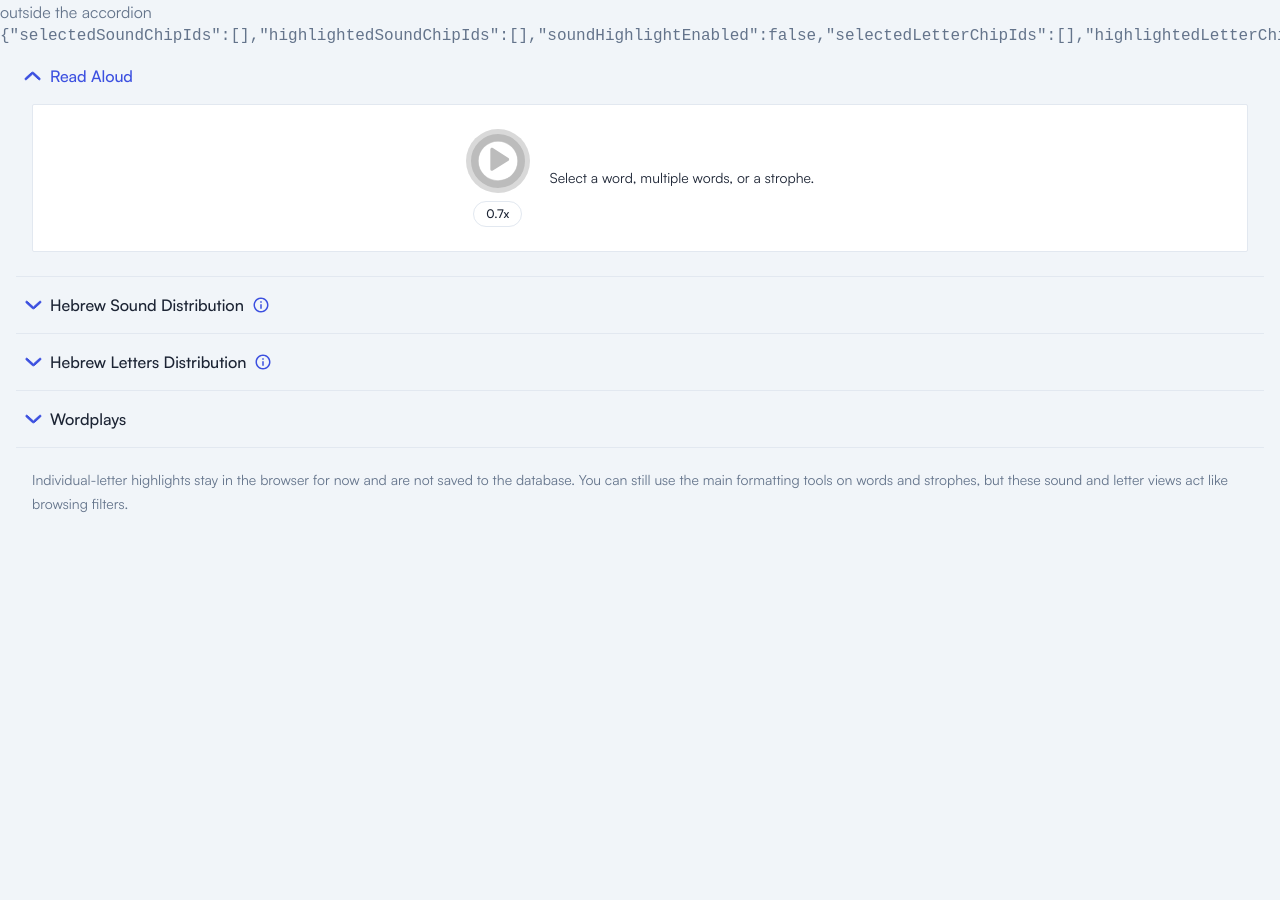
it: tooltip modal — open / content / close › Hebrew Sound Distribution uses the shared blue info icon without toggling the section (127.5)
Click the button named "About sound distribution" at [261, 305], box [252,296,270,314]
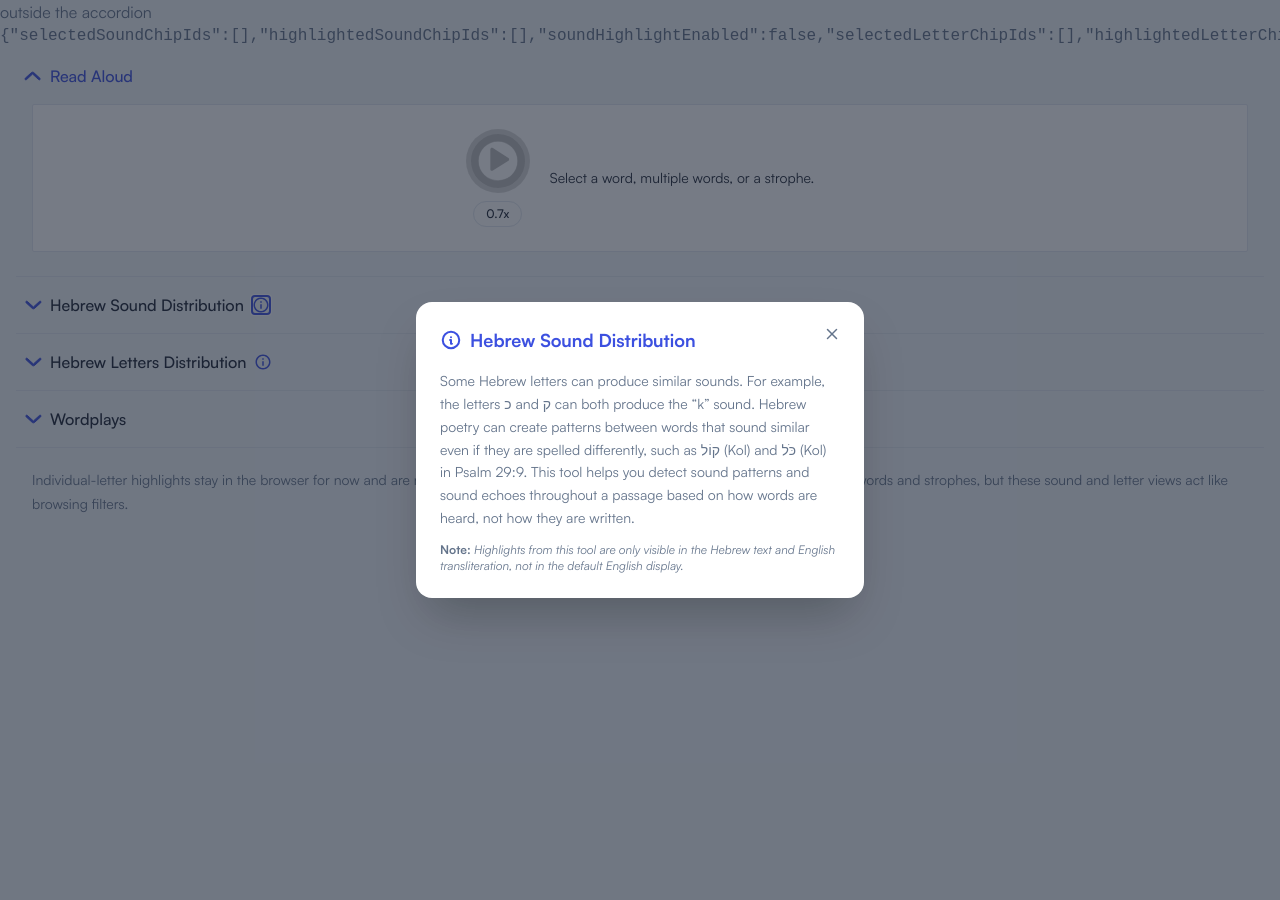
Result: the dialog is shown
Click the button named "Close" at [832, 334], box [816,318,848,350]
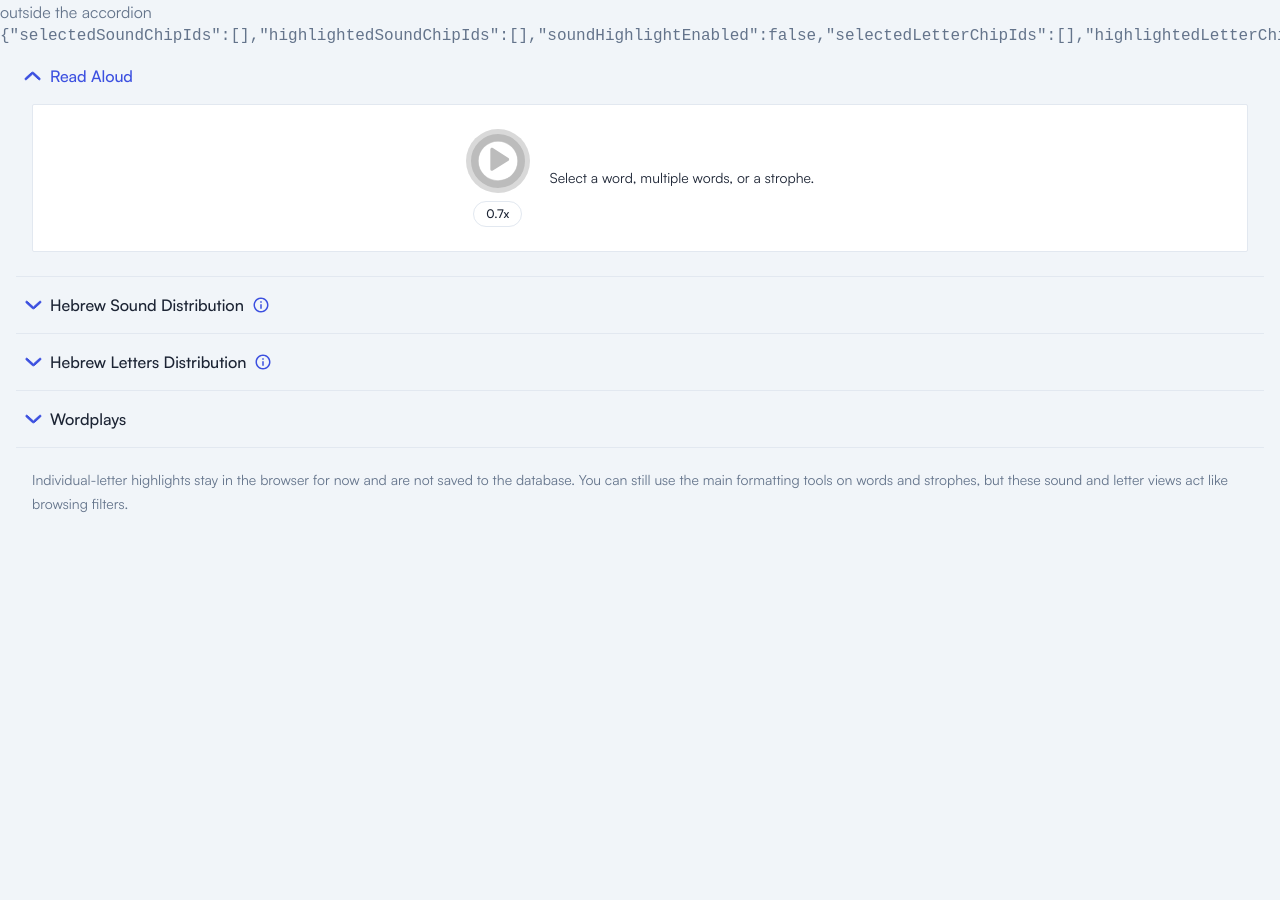
Click the button "Hebrew Sound Distribution" at [134, 305], box [24,293,244,317]
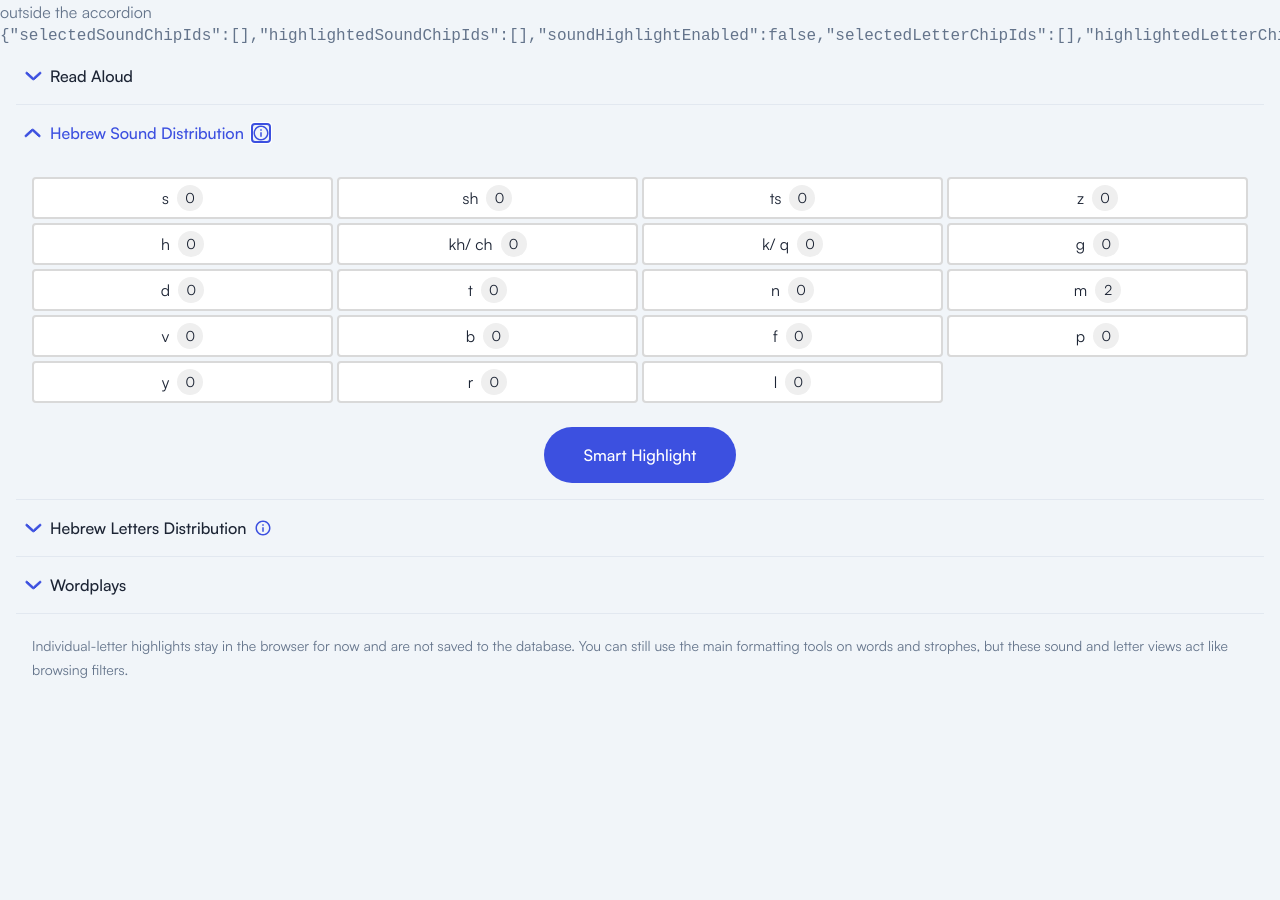
Result: the button "Hebrew Sound Distribution" is expanded at [24,121,244,145]
Press Enter
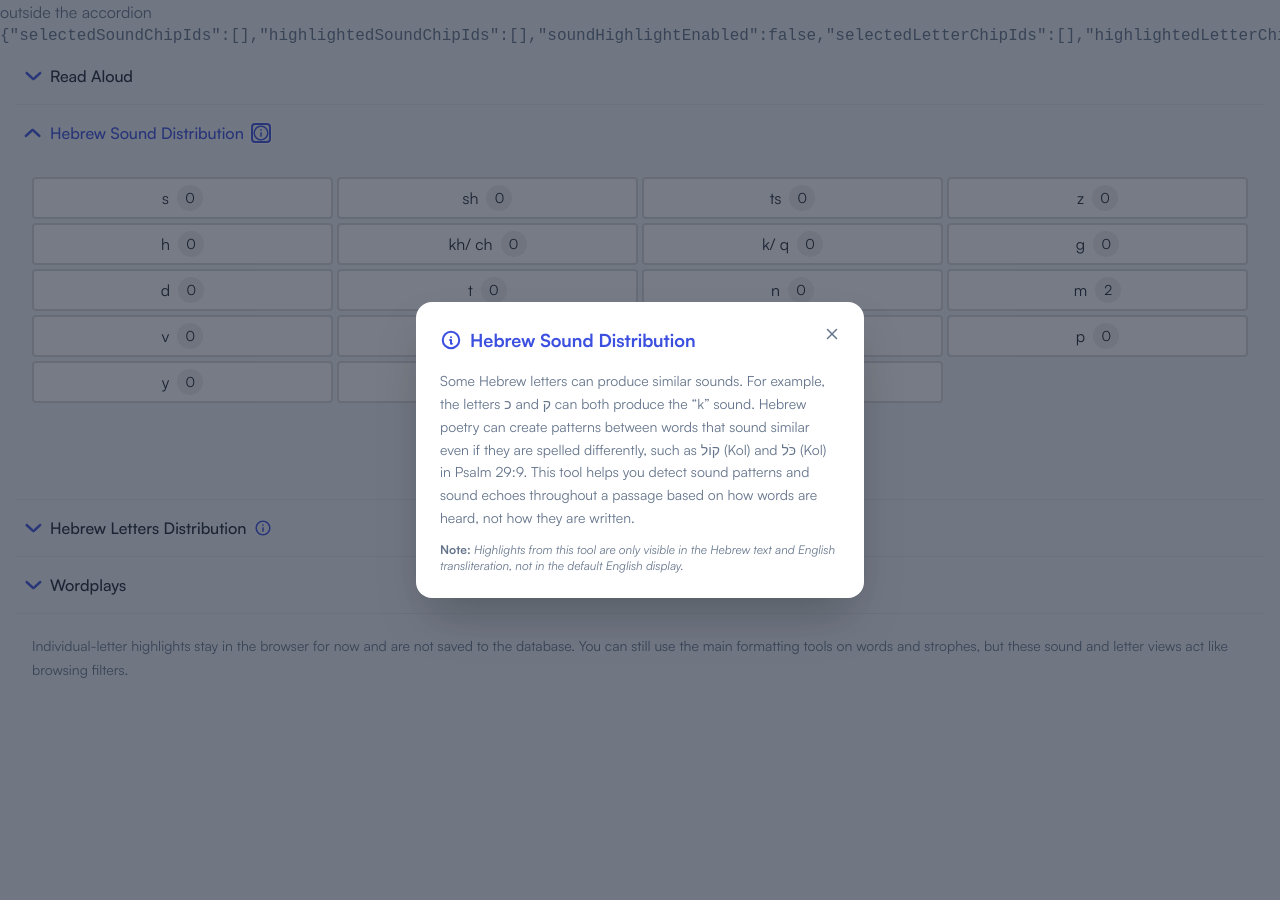
Result: the button "Hebrew Sound Distribution" is expanded at [24,121,244,145]
Result: the dialog is shown
Press Escape
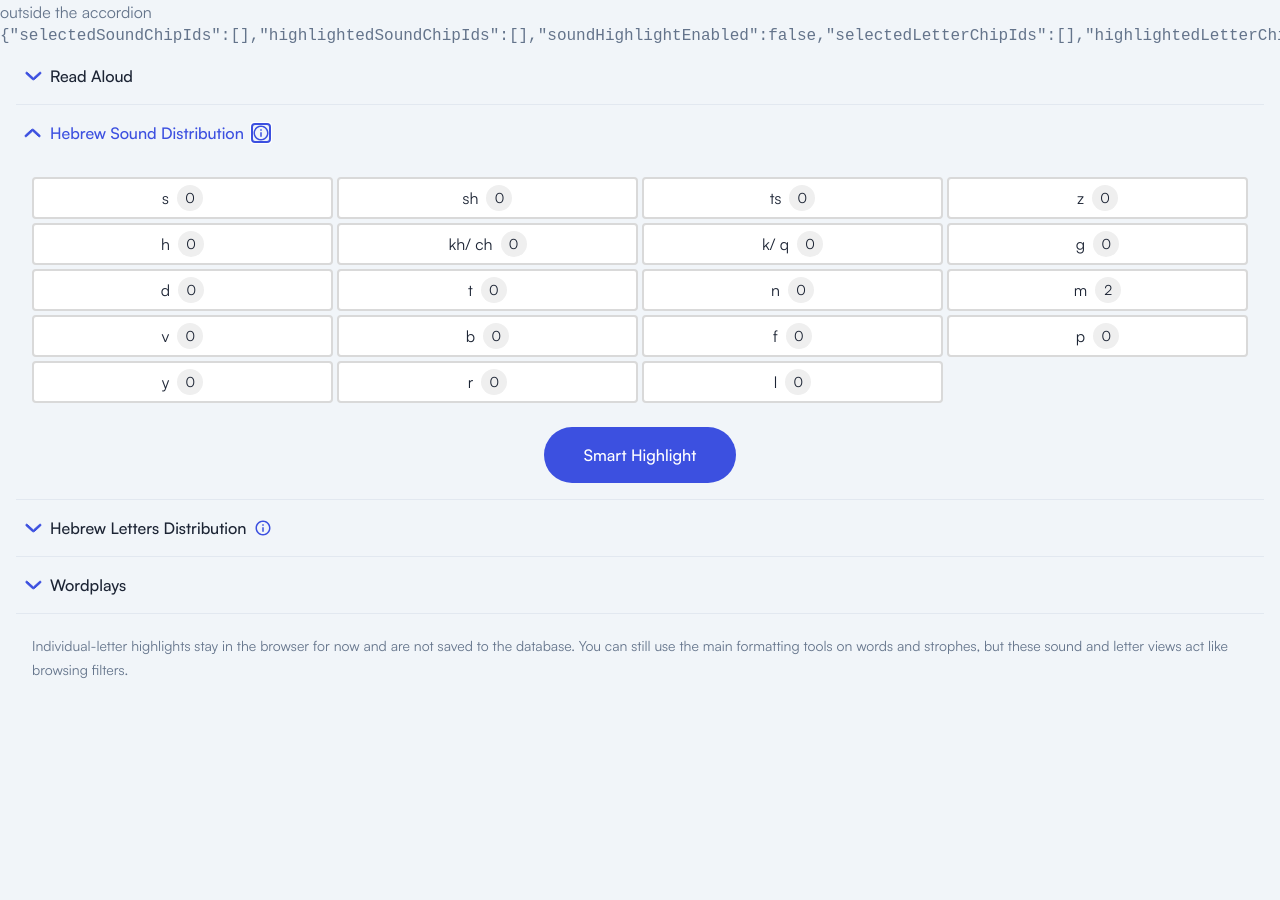
Result: the button "Hebrew Sound Distribution" is expanded at [24,121,244,145]
Result: the dialog is gone
